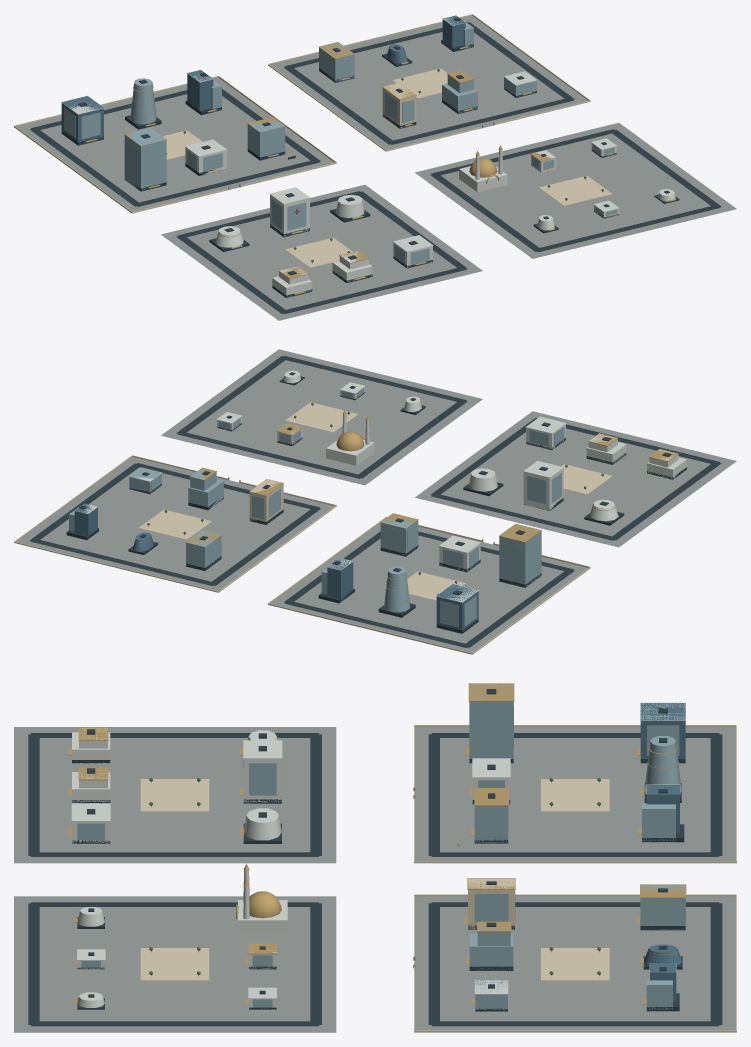
The model's file is GC-TILE-15-13.glb.
3 views of the same model, one above another, from view 1: azimuth 30°, elevation 25°; view 2: azimuth 150°, elevation 25°; view 3: azimuth 270°, elevation 25° (orthographic). The views are drawn at different scales.
Visible parts, largest first — view 1: GC-TILE-15-13-paving, GC-TILE-15-13-dark, GC-TILE-15-13-glass, GC-TILE-15-13-white, GC-TILE-15-13-ivory, GC-TILE-15-13-blue, GC-TILE-15-13-gold; view 2: GC-TILE-15-13-paving, GC-TILE-15-13-dark, GC-TILE-15-13-glass, GC-TILE-15-13-white, GC-TILE-15-13-ivory, GC-TILE-15-13-blue, GC-TILE-15-13-gold; view 3: GC-TILE-15-13-paving, GC-TILE-15-13-dark, GC-TILE-15-13-glass, GC-TILE-15-13-ivory, GC-TILE-15-13-white, GC-TILE-15-13-gold, GC-TILE-15-13-blue.
Boxes of the visible parts, <box> form: GC-TILE-15-13-paving: <box>16,15,736,320</box>; GC-TILE-15-13-dark: <box>30,17,721,314</box>; GC-TILE-15-13-glass: <box>64,21,617,264</box>; GC-TILE-15-13-white: <box>61,16,675,297</box>; GC-TILE-15-13-ivory: <box>14,14,611,267</box>; GC-TILE-15-13-blue: <box>61,15,465,144</box>; GC-TILE-15-13-gold: <box>86,42,676,294</box>; GC-TILE-15-13-paving: <box>16,349,736,652</box>; GC-TILE-15-13-dark: <box>30,355,721,647</box>; GC-TILE-15-13-glass: <box>69,388,564,627</box>; GC-TILE-15-13-white: <box>75,370,686,602</box>; GC-TILE-15-13-ivory: <box>14,402,611,654</box>; GC-TILE-15-13-blue: <box>74,503,478,633</box>; GC-TILE-15-13-gold: <box>135,373,678,603</box>; GC-TILE-15-13-paving: <box>14,727,735,1032</box>; GC-TILE-15-13-dark: <box>28,689,722,1026</box>; GC-TILE-15-13-glass: <box>77,684,685,1011</box>; GC-TILE-15-13-ivory: <box>140,725,736,1032</box>; GC-TILE-15-13-white: <box>71,702,685,1009</box>; GC-TILE-15-13-gold: <box>68,683,686,1004</box>; GC-TILE-15-13-blue: <box>640,703,685,1002</box>.
Size of the model in its own units: 759 by 73.92 by 758.
